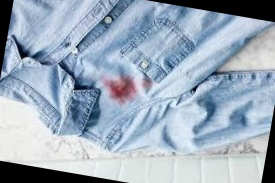wine: (99, 69, 155, 111)
